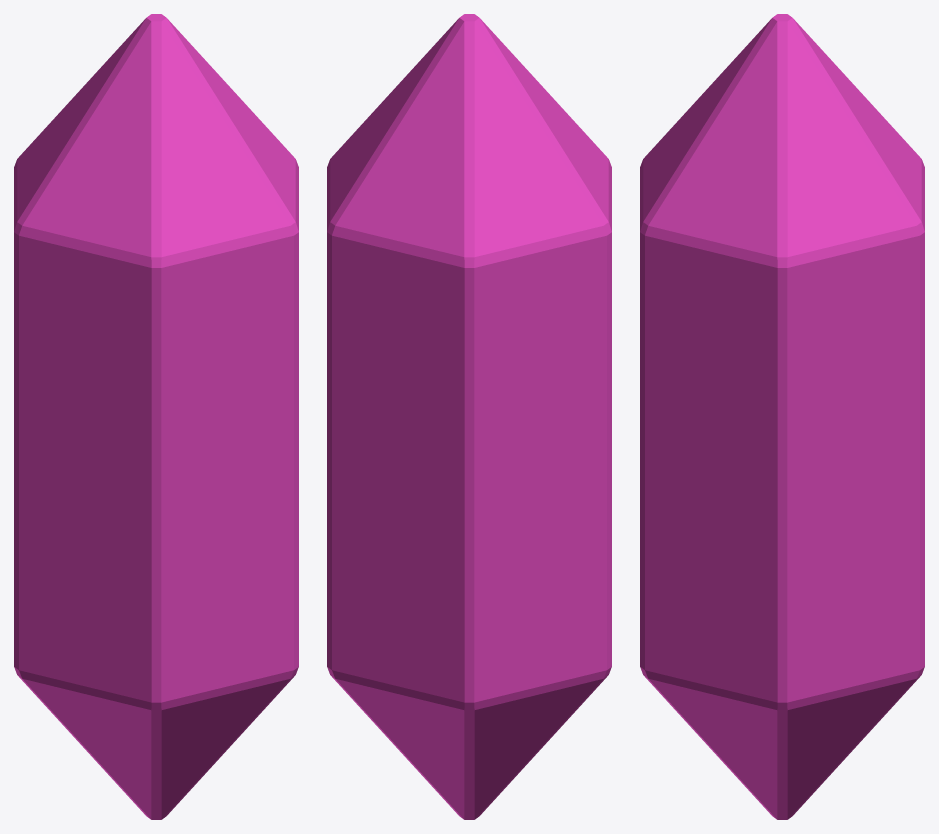
Rendered from Crystal2.glb.
The picture shows the model from 3 angles, left to right: view 1: azimuth 30°, elevation 25°; view 2: azimuth 150°, elevation 25°; view 3: azimuth 270°, elevation 25°; orthographic projection.
Parts seen in each view (by area): view 1: Crystal2; view 2: Crystal2; view 3: Crystal2.
Boxes of the visible parts, x1,y1,x2,y2 form: Crystal2: (14,14,298,819); Crystal2: (327,14,611,819); Crystal2: (640,14,924,819).
Bounding box in the file's own units: 0.1315 × 0.3583 × 0.1158.
